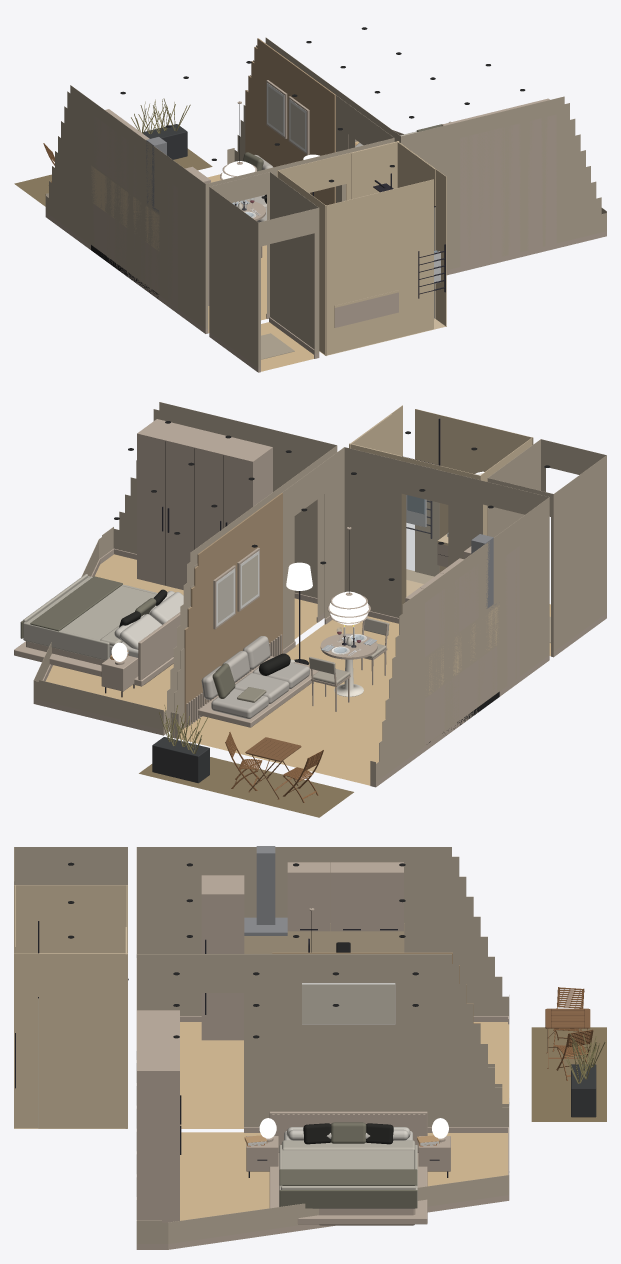
Rendered from unit-2.B-natura.glb.
3 renders of one model, top to bottom at view 1: azimuth 30°, elevation 25°; view 2: azimuth 150°, elevation 25°; view 3: azimuth 270°, elevation 25°, orthographic. The views are drawn at different scales.
Visible parts, largest first — view 1: int-wall, int-bathWall, int-joineryTall, int-feature, int-joinery, int-showerWall, int-skirting, int-splash, int-wood, int-hallFloor, int-deck, int-outdoor (+7 smaller); view 2: int-wall, int-floor, int-joineryTall, int-feature, int-bathWall, int-wood, int-joinery, int-duvet, int-deck, int-sofa, int-skirting, int-glass (+20 smaller); view 3: int-wall, int-bathWall, int-floor, int-joineryTall, int-joinery, int-wood, int-deck, int-bedThrow, int-duvet, int-art:5:2, int-splash, int-skirting (+11 smaller).
Boxes of the visible parts, left/top/right/bottom form: int-wall: left=45, top=37, right=606, bottom=367; int-bathWall: left=277, top=141, right=446, bottom=355; int-joineryTall: left=165, top=98, right=566, bottom=327; int-feature: left=245, top=38, right=335, bottom=205; int-joinery: left=93, top=109, right=159, bottom=293; int-showerWall: left=351, top=141, right=435, bottom=318; int-skirting: left=45, top=139, right=606, bottom=372; int-splash: left=91, top=165, right=159, bottom=248; int-wood: left=220, top=80, right=309, bottom=220; int-hallFloor: left=261, top=322, right=313, bottom=371; int-deck: left=14, top=148, right=212, bottom=206; int-outdoor: left=142, top=124, right=187, bottom=159; int-wall: left=33, top=402, right=606, bottom=781; int-floor: left=45, top=554, right=398, bottom=785; int-joineryTall: left=137, top=419, right=519, bottom=696; int-feature: left=184, top=493, right=282, bottom=727; int-bathWall: left=349, top=405, right=533, bottom=613; int-wood: left=14, top=527, right=377, bottom=727; int-joinery: left=405, top=558, right=498, bottom=744; int-duvet: left=23, top=574, right=157, bottom=660; int-deck: left=139, top=757, right=353, bottom=817; int-sofa: left=201, top=636, right=309, bottom=718; int-skirting: left=33, top=548, right=606, bottom=787; int-glass: left=406, top=495, right=439, bottom=583; int-wall: left=14, top=847, right=509, bottom=1243; int-bathWall: left=14, top=885, right=127, bottom=1128; int-floor: left=180, top=1022, right=509, bottom=1220; int-joineryTall: left=137, top=875, right=244, bottom=1222; int-joinery: left=287, top=862, right=403, bottom=931; int-wood: left=246, top=908, right=450, bottom=1225; int-deck: left=531, top=1027, right=606, bottom=1121; int-bedThrow: left=279, top=1169, right=417, bottom=1208; int-duvet: left=279, top=1140, right=417, bottom=1208; int-art:5:2: left=302, top=984, right=394, bottom=1024; int-splash: left=244, top=923, right=404, bottom=953; int-skirting: left=136, top=1016, right=509, bottom=1249.
Size of the model in its own units: 7.52 by 2.8 by 8.26.
